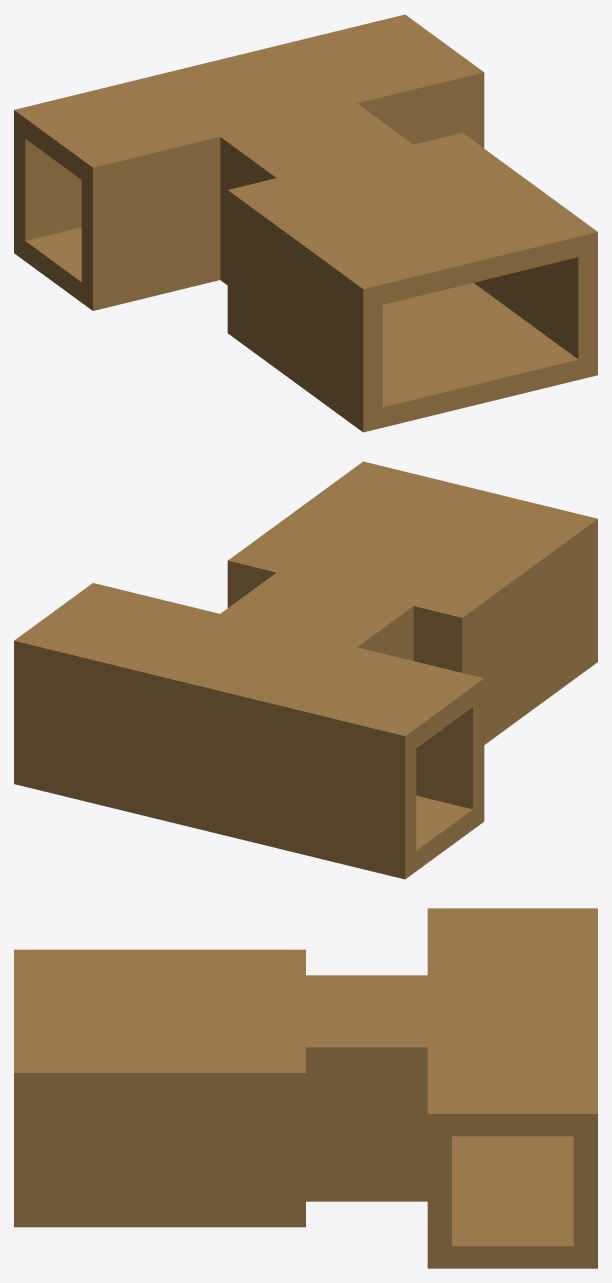
The model's file is Enterance.glb.
The picture shows the model from 3 angles, top to bottom: view 1: azimuth 30°, elevation 25°; view 2: azimuth 150°, elevation 25°; view 3: azimuth 270°, elevation 25°; orthographic projection. The views are drawn at different scales.
Visible parts, largest first — view 1: Cube; view 2: Cube; view 3: Cube.
Boxes of the visible parts, <box> form: Cube: <box>14,14,597,432</box>; Cube: <box>14,461,597,879</box>; Cube: <box>14,908,597,1268</box>.
Size of the model in its own units: 40 by 14 by 48.
